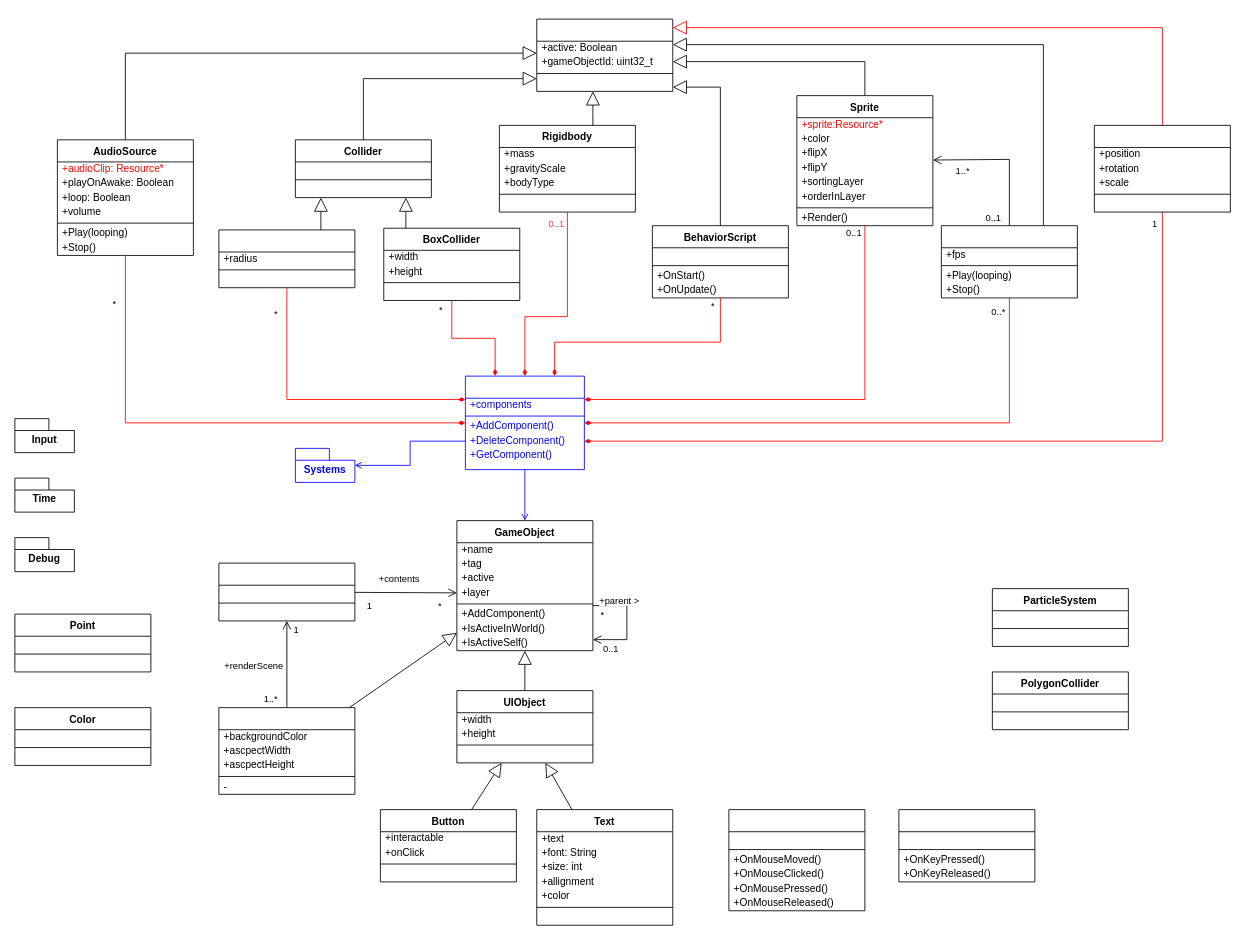
Image size: 1245x940. Some labels were removed from this diagram. The shapes that lost their labels are listed below. From the top down, each one's box as (x1, y1, x2, y2) in pixels, then its label:
(536, 18, 673, 91): Component
(1094, 125, 1230, 212): Transform
(218, 229, 355, 288): CircleCollider
(941, 225, 1077, 298): Animator
(465, 375, 584, 470): ComponentManager
(218, 562, 355, 621): Scene
(218, 707, 355, 794): Camera
(728, 809, 865, 911): iMouseListener
(898, 809, 1035, 882): iKeyListener
